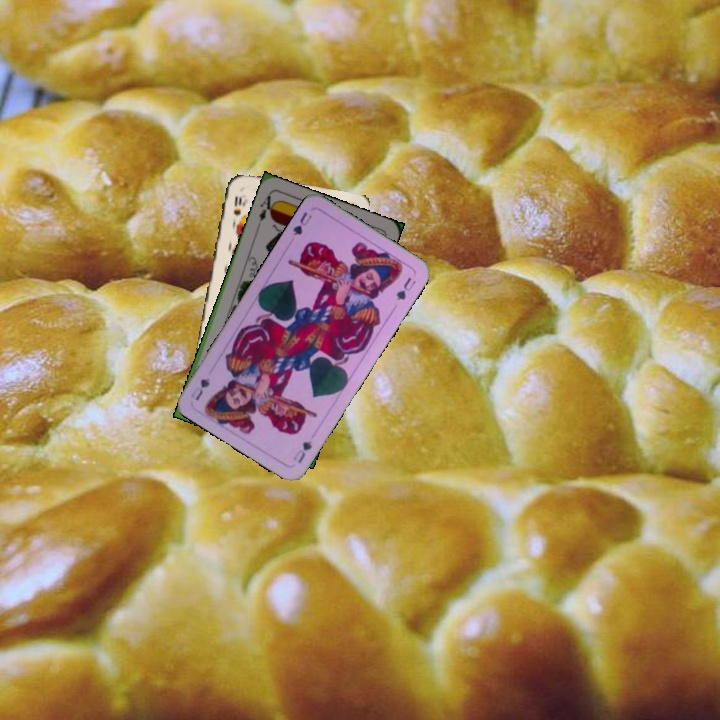EA: (255, 190, 278, 224)
GU: (289, 208, 315, 238), (289, 436, 315, 466)
S10: (229, 192, 244, 219)
